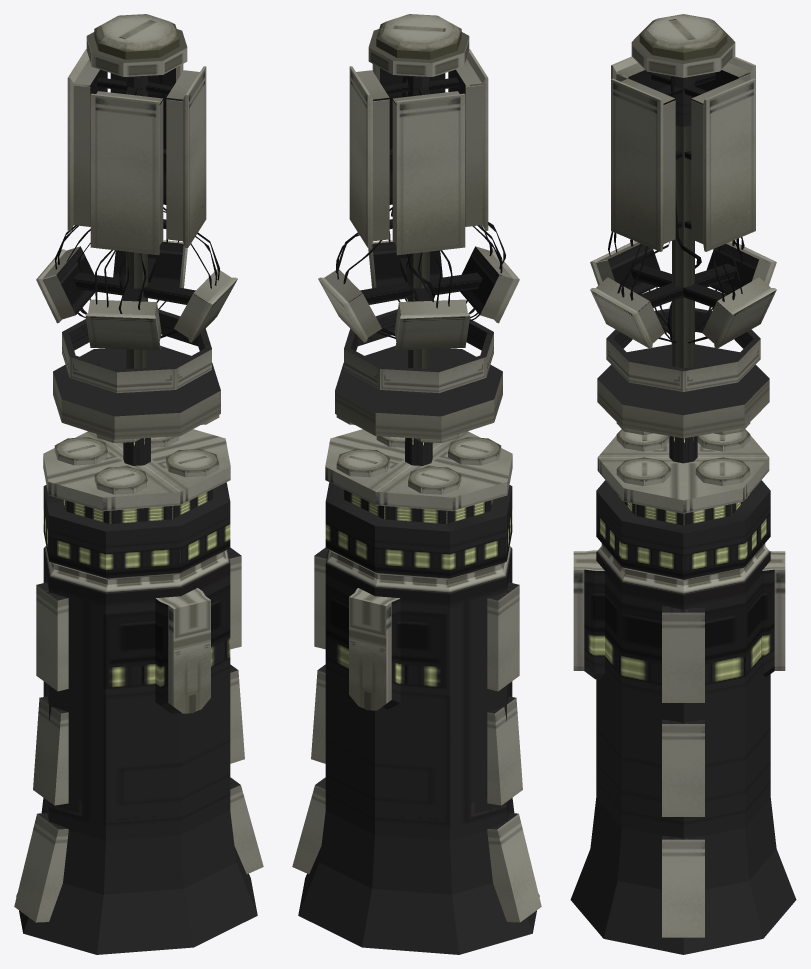
Rendered from MainTower.fbx.
The picture shows the model from 3 angles, left to right: view 1: azimuth 30°, elevation 25°; view 2: azimuth 150°, elevation 25°; view 3: azimuth 270°, elevation 25°; orthographic projection.
Visible parts, largest first — view 1: MainTower; view 2: MainTower; view 3: MainTower.
Part boxes in pixels (bbox=[...]): MainTower: bbox=[14, 14, 263, 954]; MainTower: bbox=[292, 14, 541, 954]; MainTower: bbox=[570, 14, 796, 954].
Bounding box in the file's own units: 305 × 1112 × 262.
